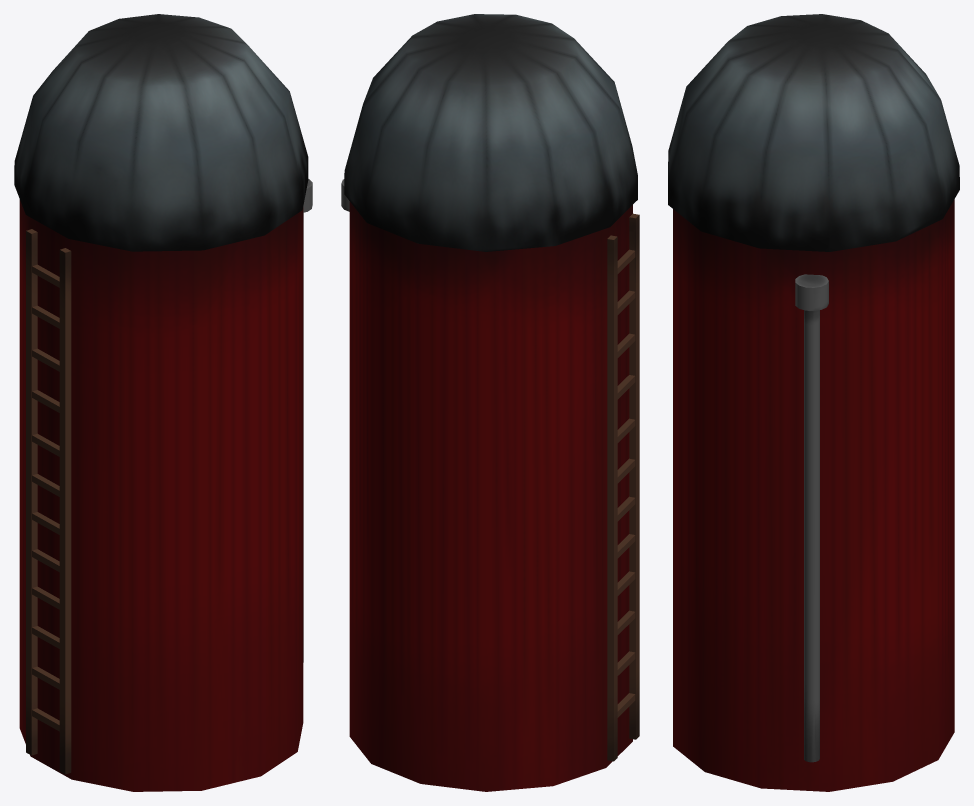
The model's file is silo.fbx.
3 renders of one model, left to right at view 1: azimuth 30°, elevation 25°; view 2: azimuth 150°, elevation 25°; view 3: azimuth 270°, elevation 25°, orthographic.
Parts seen in each view (by area): view 1: Cube.013; view 2: Cube.013; view 3: Cube.013.
Boxes of the visible parts, <box> form: Cube.013: <box>14,14,312,791</box>; Cube.013: <box>341,14,639,791</box>; Cube.013: <box>668,14,959,791</box>.
Bounding box in the file's own units: 1346 × 3235 × 1227.
